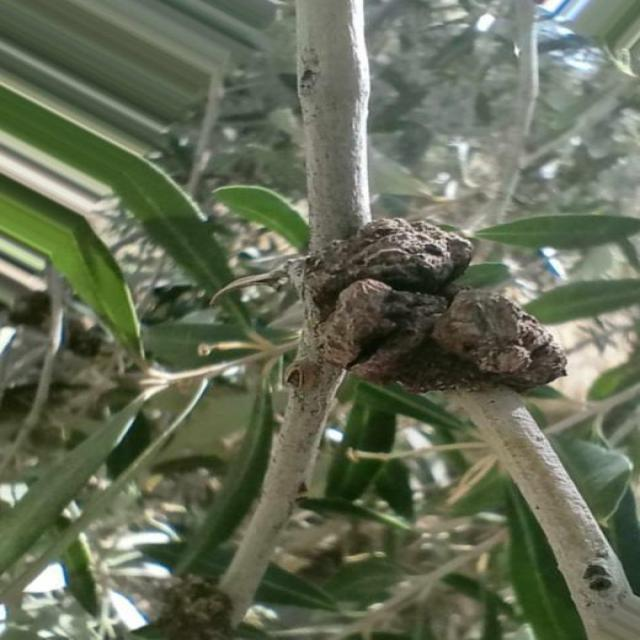Tuberculosis: (287, 219, 566, 394)
